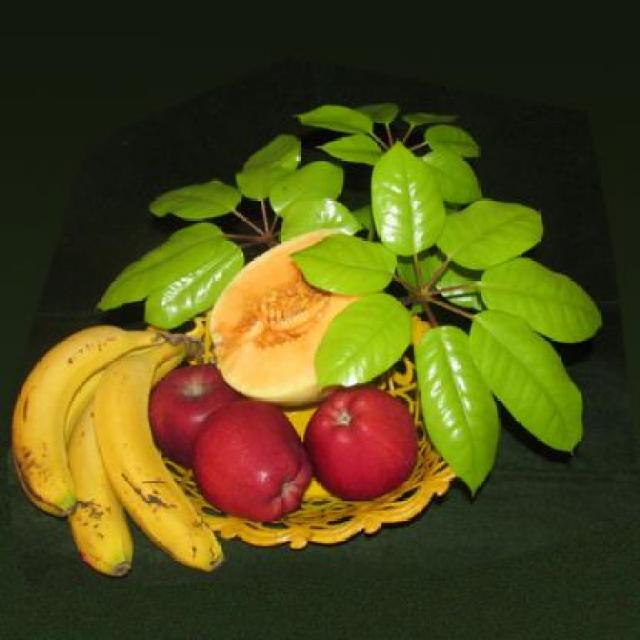Apple pie: (194, 399, 314, 521), (298, 392, 418, 510), (147, 360, 241, 465)
